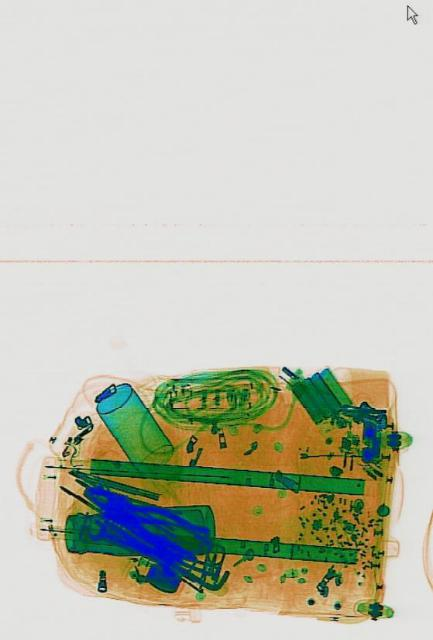Pliers: (77, 467, 209, 569)
Wrench: (86, 513, 154, 563)
